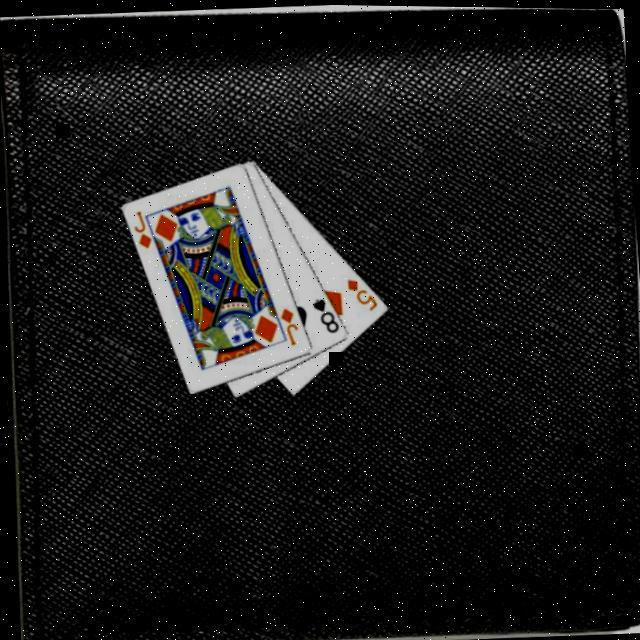5D: (346, 272, 382, 312)
8S: (312, 292, 344, 334)
JD: (278, 301, 304, 346), (132, 204, 156, 250)
